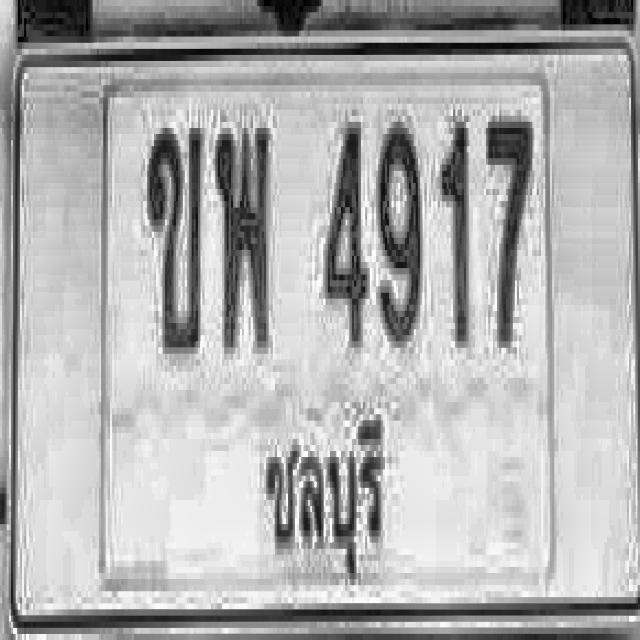license-plate: (11, 32, 640, 640)
